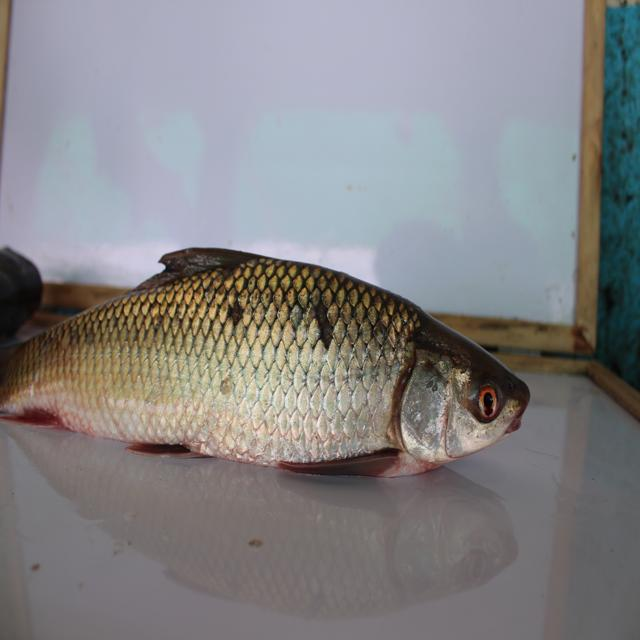Grass Carp: (0, 225, 542, 487)
